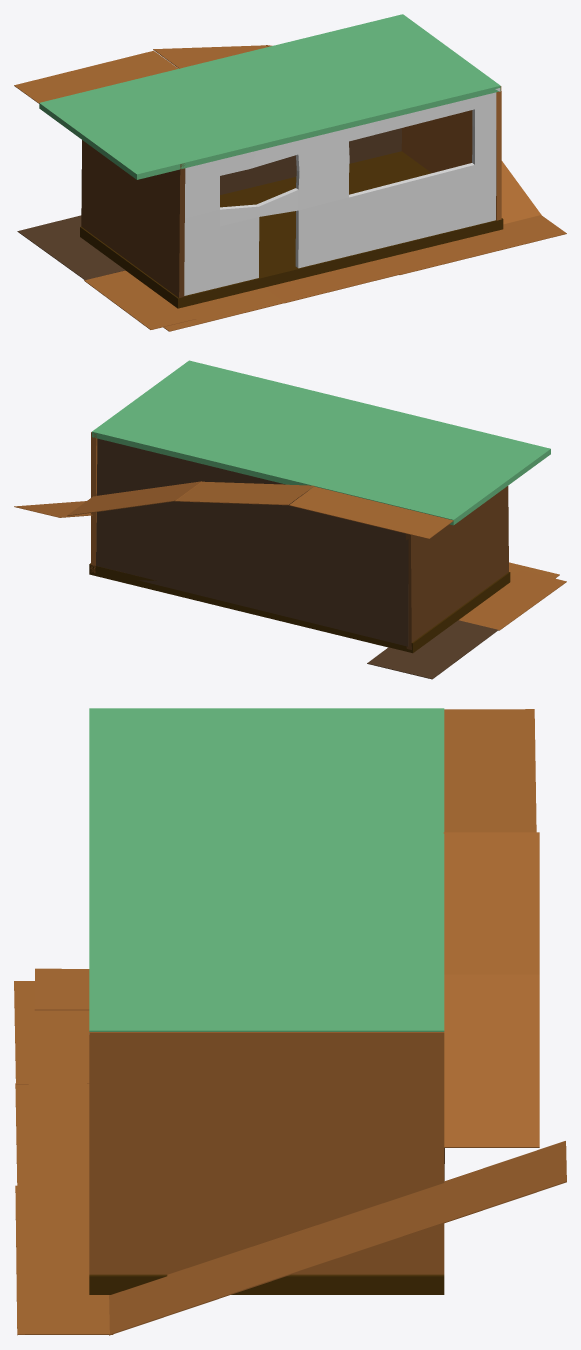
Rendered from house_double.glb.
The picture shows the model from 3 angles, top to bottom: view 1: azimuth 30°, elevation 25°; view 2: azimuth 150°, elevation 25°; view 3: azimuth 270°, elevation 25°; orthographic projection. The views are drawn at different scales.
Parts seen in each view (by area): view 1: Cube; view 2: Cube; view 3: Cube.
Boxes of the visible parts, x1,y1,x2,y2 form: Cube: (14, 14, 566, 331); Cube: (14, 360, 566, 679); Cube: (14, 708, 566, 1335).
Size of the model in its own units: 14.06 by 4.75 by 9.01.
